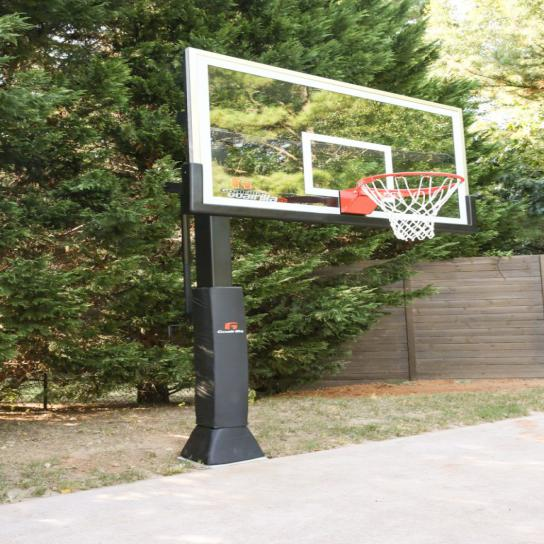basketball-hoop: (355, 172, 465, 242)
